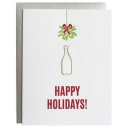Metal: (59, 46, 75, 75)
